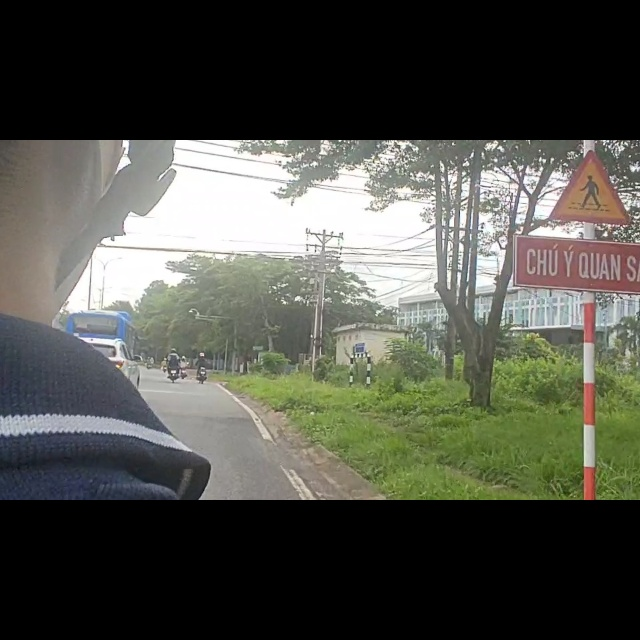bien_nguy_hiem: (547, 14, 634, 147)
